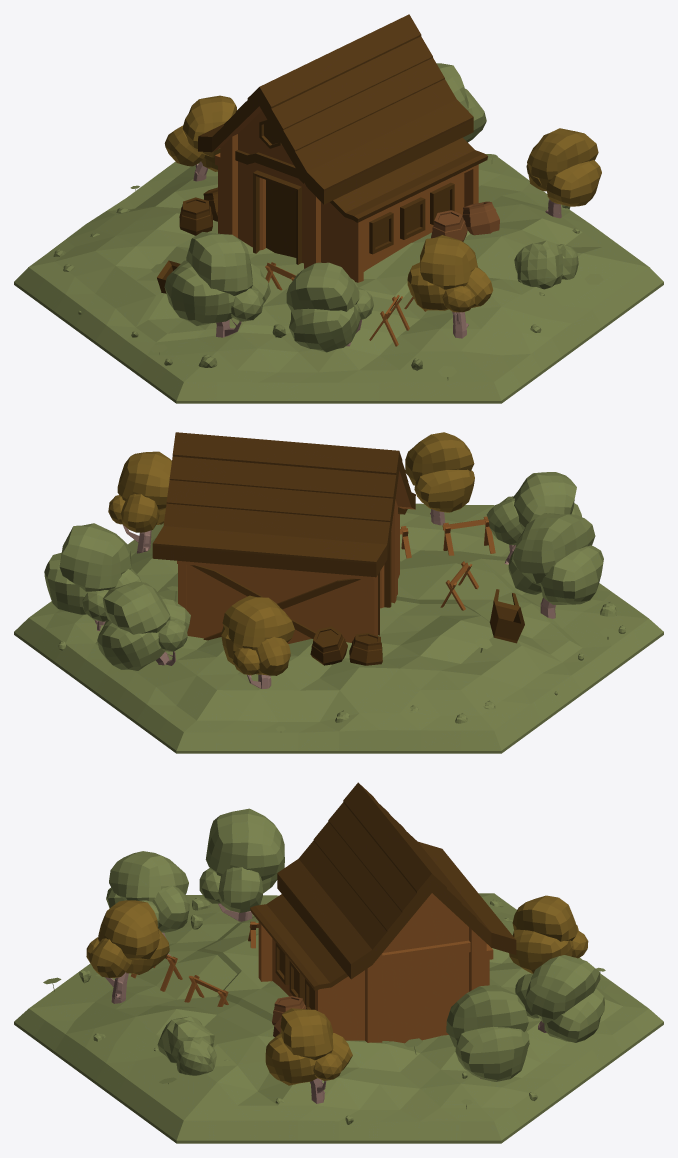
Rendered from workers_hut.glb.
3 renders of one model, top to bottom at view 1: azimuth 30°, elevation 25°; view 2: azimuth 150°, elevation 25°; view 3: azimuth 270°, elevation 25°, orthographic.
Parts seen in each view (by area): view 1: land; view 2: land; view 3: land.
Part boxes in pixels (box(x1,y1,x2,y2)): land: box(14, 14, 663, 403); land: box(14, 432, 663, 753); land: box(14, 782, 663, 1143).
Size of the model in its own units: 1.73 by 0.7376 by 2.
1 material, 1 textured.
